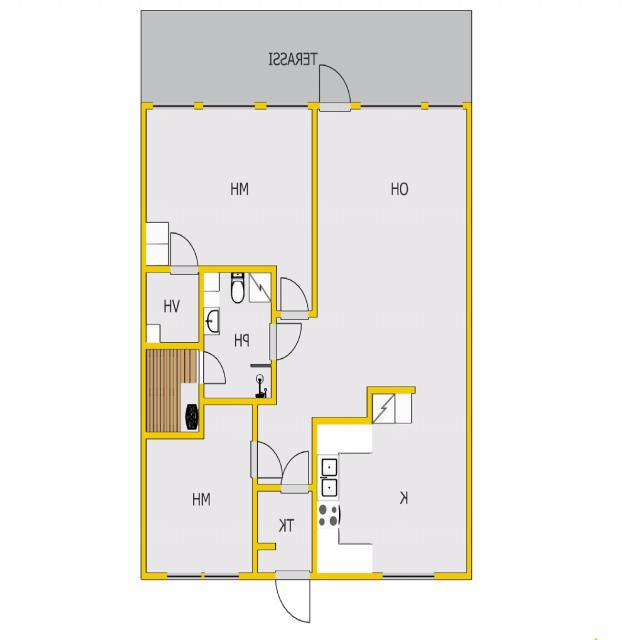door: (275, 572, 310, 626), (320, 61, 350, 109), (252, 440, 285, 478), (170, 265, 198, 309), (271, 323, 304, 360), (281, 447, 308, 491), (281, 274, 308, 318), (198, 351, 228, 383)
